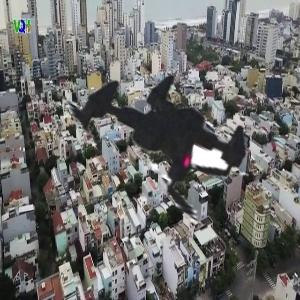drone: (19, 9, 294, 284)
